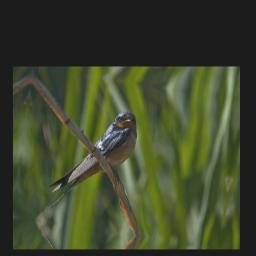Swallow: (44, 100, 141, 225)
